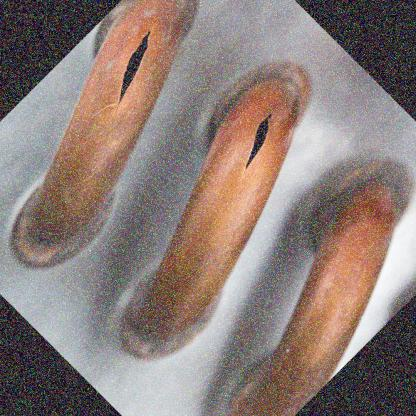burst: (239, 100, 285, 177), (119, 35, 158, 95)
